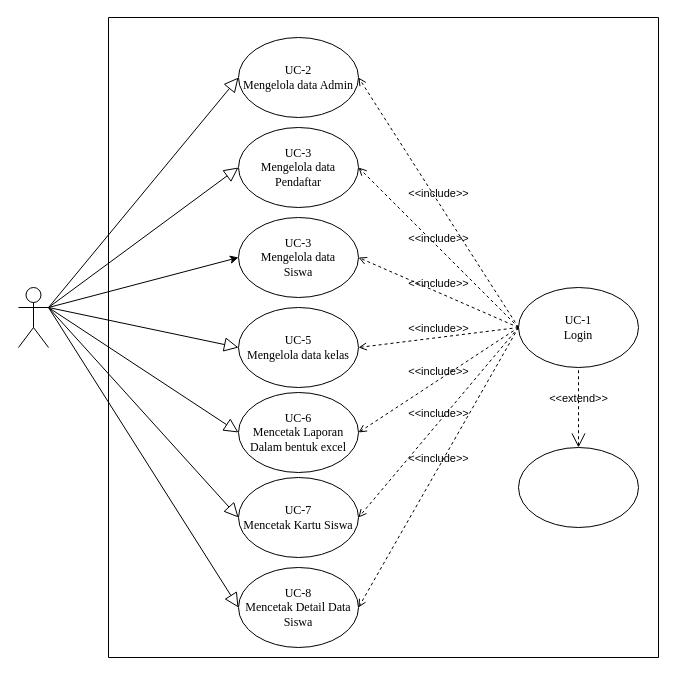
Some shapes in this 676 by 675 pixel diagram are drawn without their labels. The shapes that lost their labels are listed below. From the top down, each one's box as (x1, y1, x2, y2) in pixels, then its label:
(18, 286, 48, 348): Admin
(518, 446, 638, 528): UC-9 Logout
